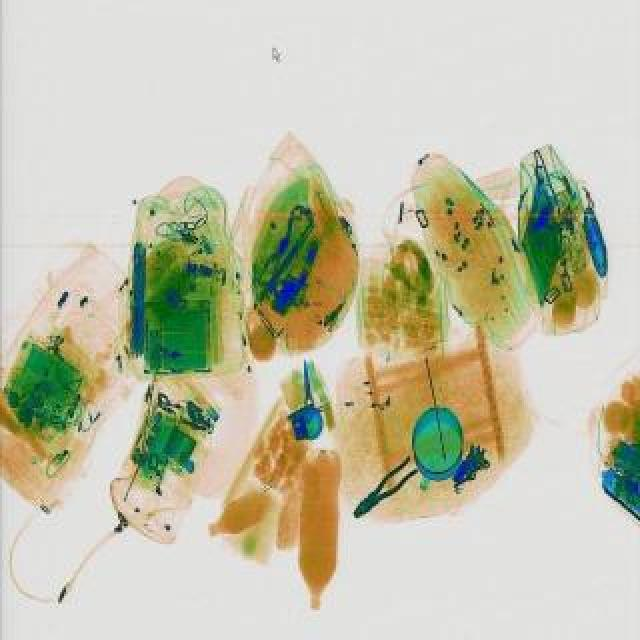wrench: (346, 454, 420, 522)
